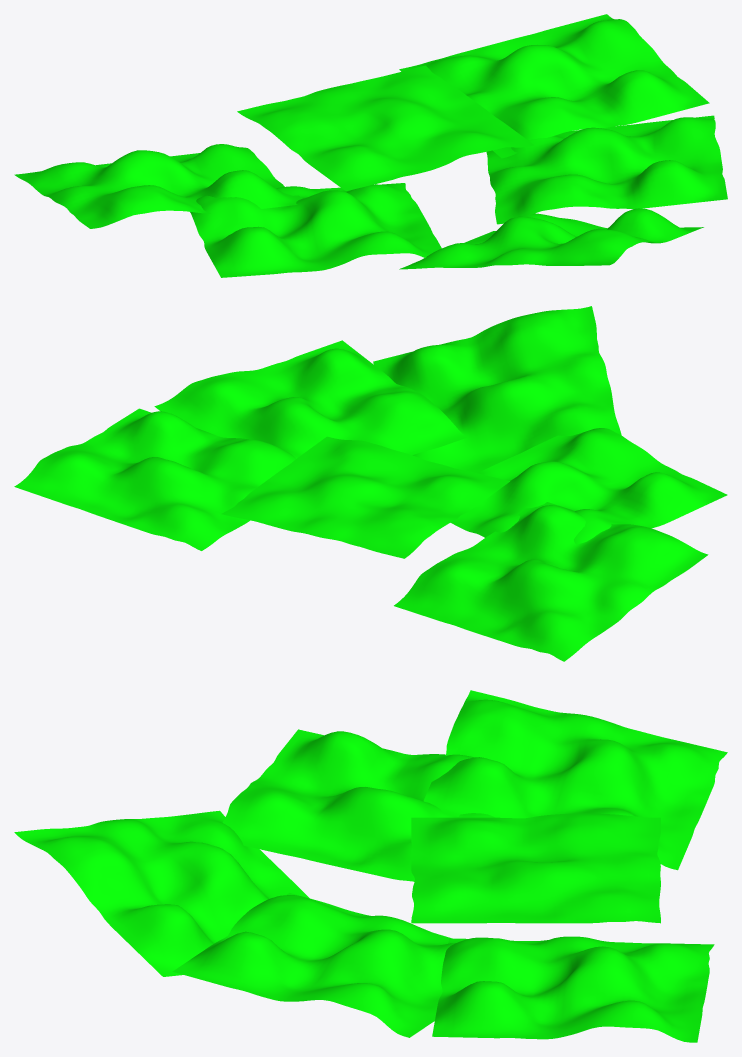
File: Foreground_Hills_Combined.fbx
3 renders of one model, top to bottom at view 1: azimuth 30°, elevation 25°; view 2: azimuth 150°, elevation 25°; view 3: azimuth 270°, elevation 25°, orthographic. The views are drawn at different scales.
Visible parts, largest first — view 1: Foreground_Hills; view 2: Foreground_Hills; view 3: Foreground_Hills.
Boxes of the visible parts, x1,y1,x2,y2 form: Foreground_Hills: [14, 14, 727, 277]; Foreground_Hills: [14, 306, 727, 661]; Foreground_Hills: [14, 690, 727, 1042].
Size of the model in its own units: 13460 by 1909 by 11817.
